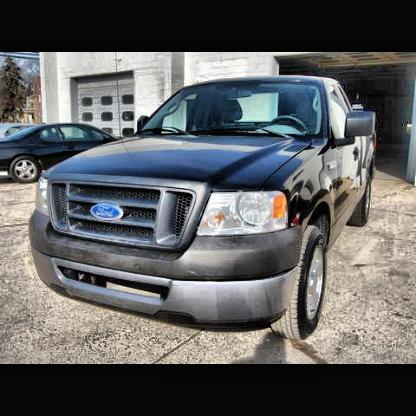Ford F-150 Regular Cab 2007: (30, 74, 381, 343)
